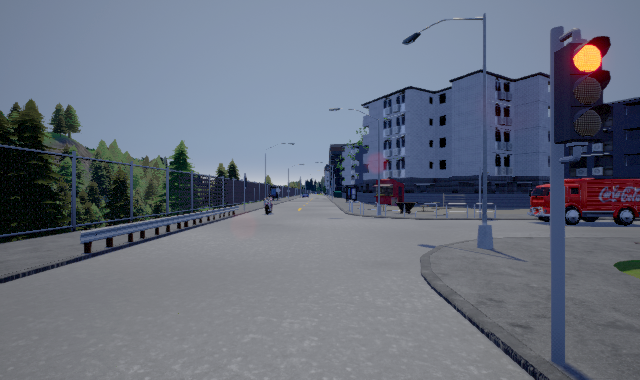motobike: (263, 194, 276, 215)
traffic_light: (554, 28, 611, 164)
vehicle: (529, 178, 640, 226)
